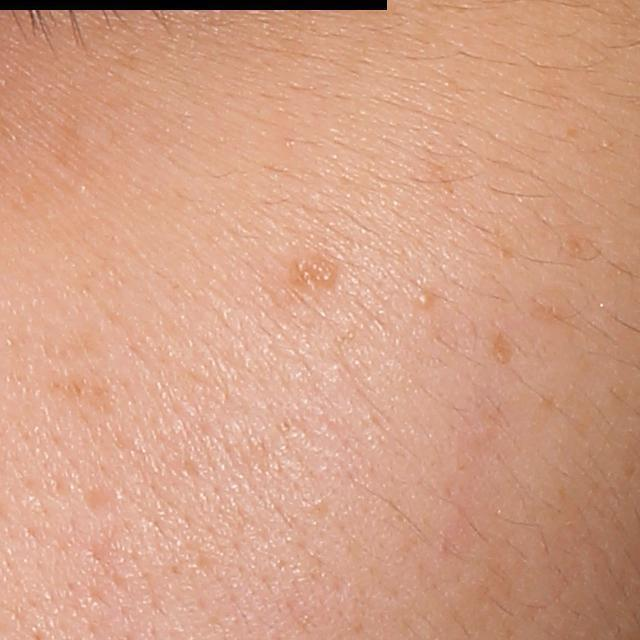atrophic_scar: (80, 482, 114, 519)
comedo: (414, 288, 435, 308)
melasma: (49, 371, 116, 419), (490, 333, 522, 370)
